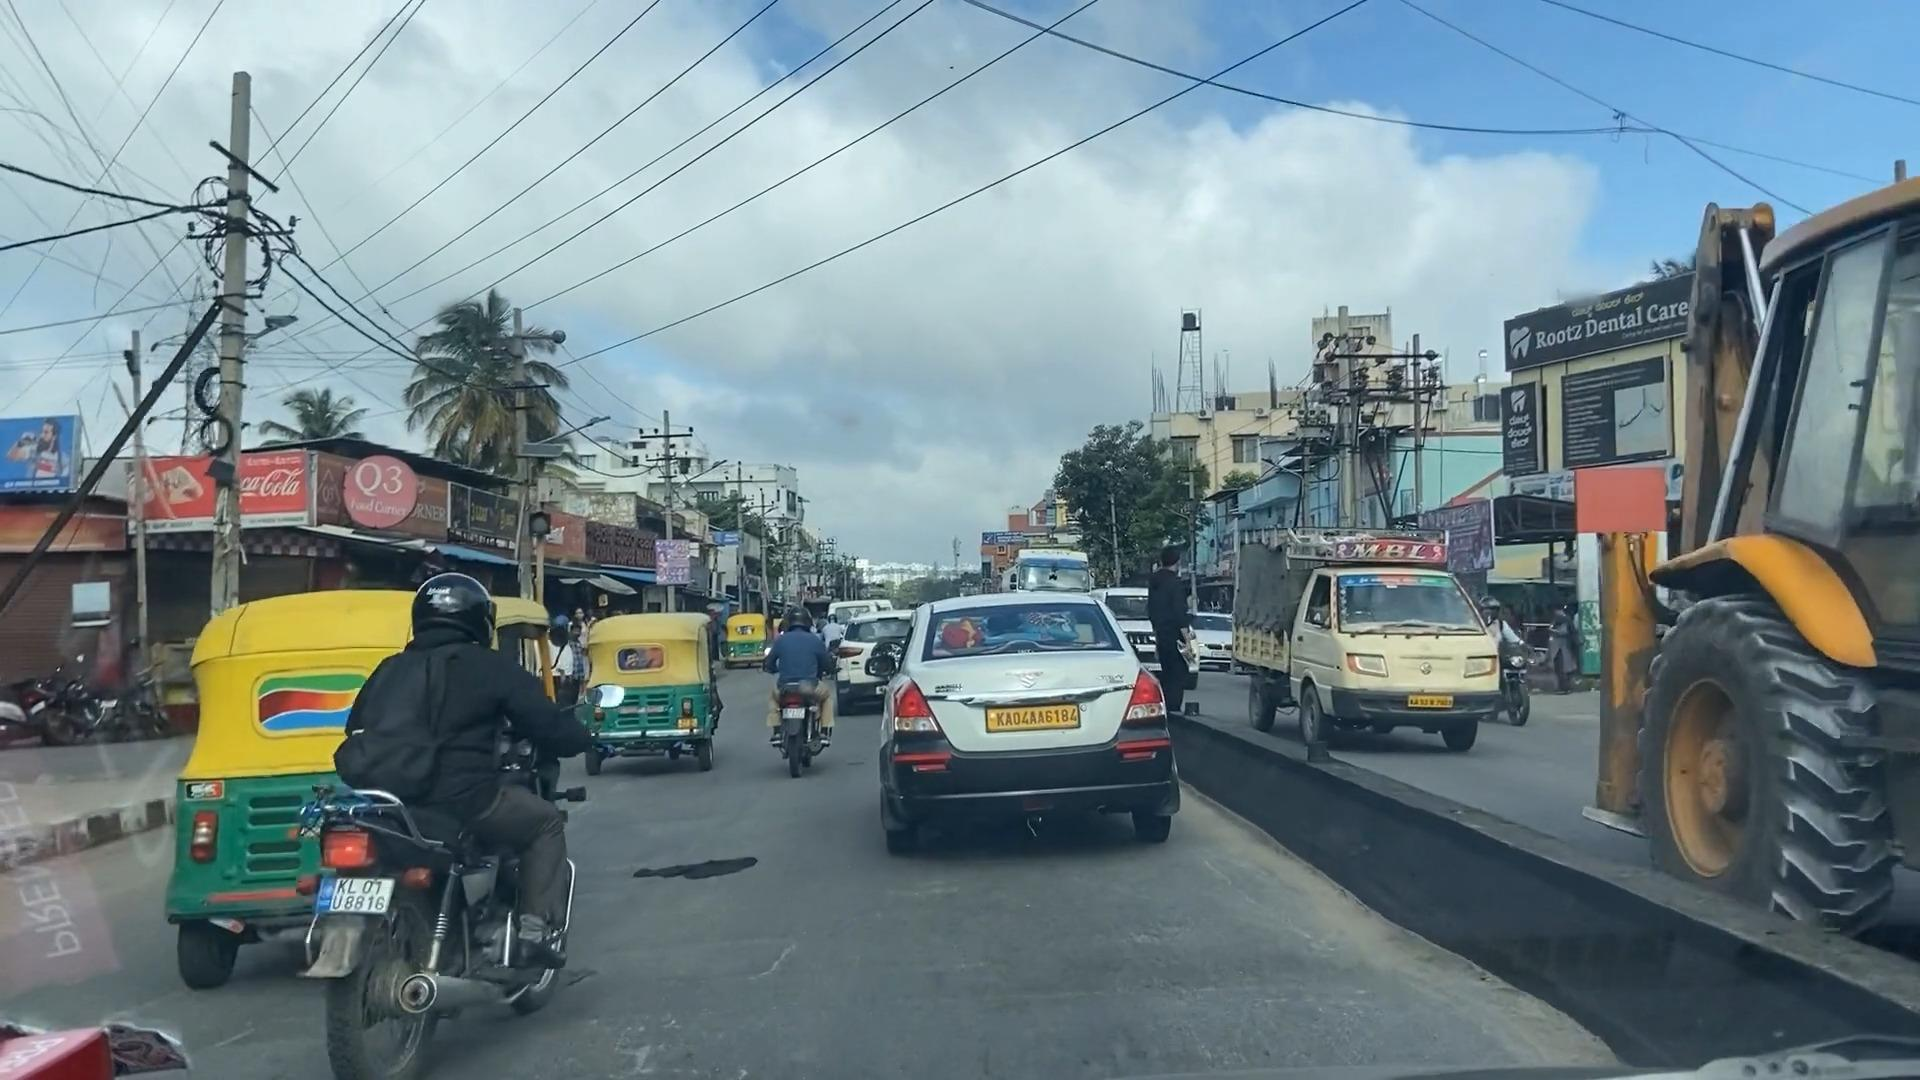LMV: (277, 600, 587, 1080), (887, 595, 1179, 847), (570, 615, 721, 762)
RoadDamages: (592, 1000, 707, 1080)
UnsurfacedRoad: (1083, 874, 1316, 1080)
